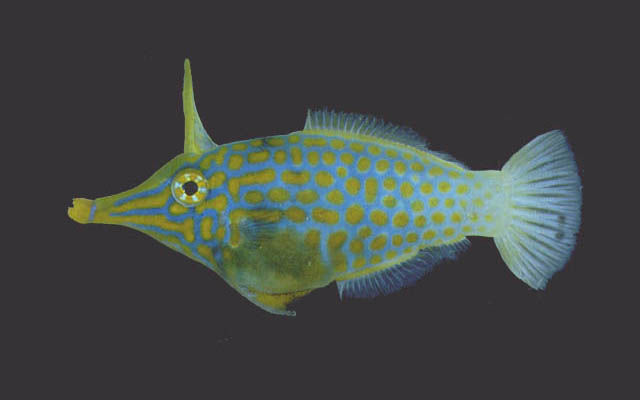fish: (66, 57, 584, 318)
